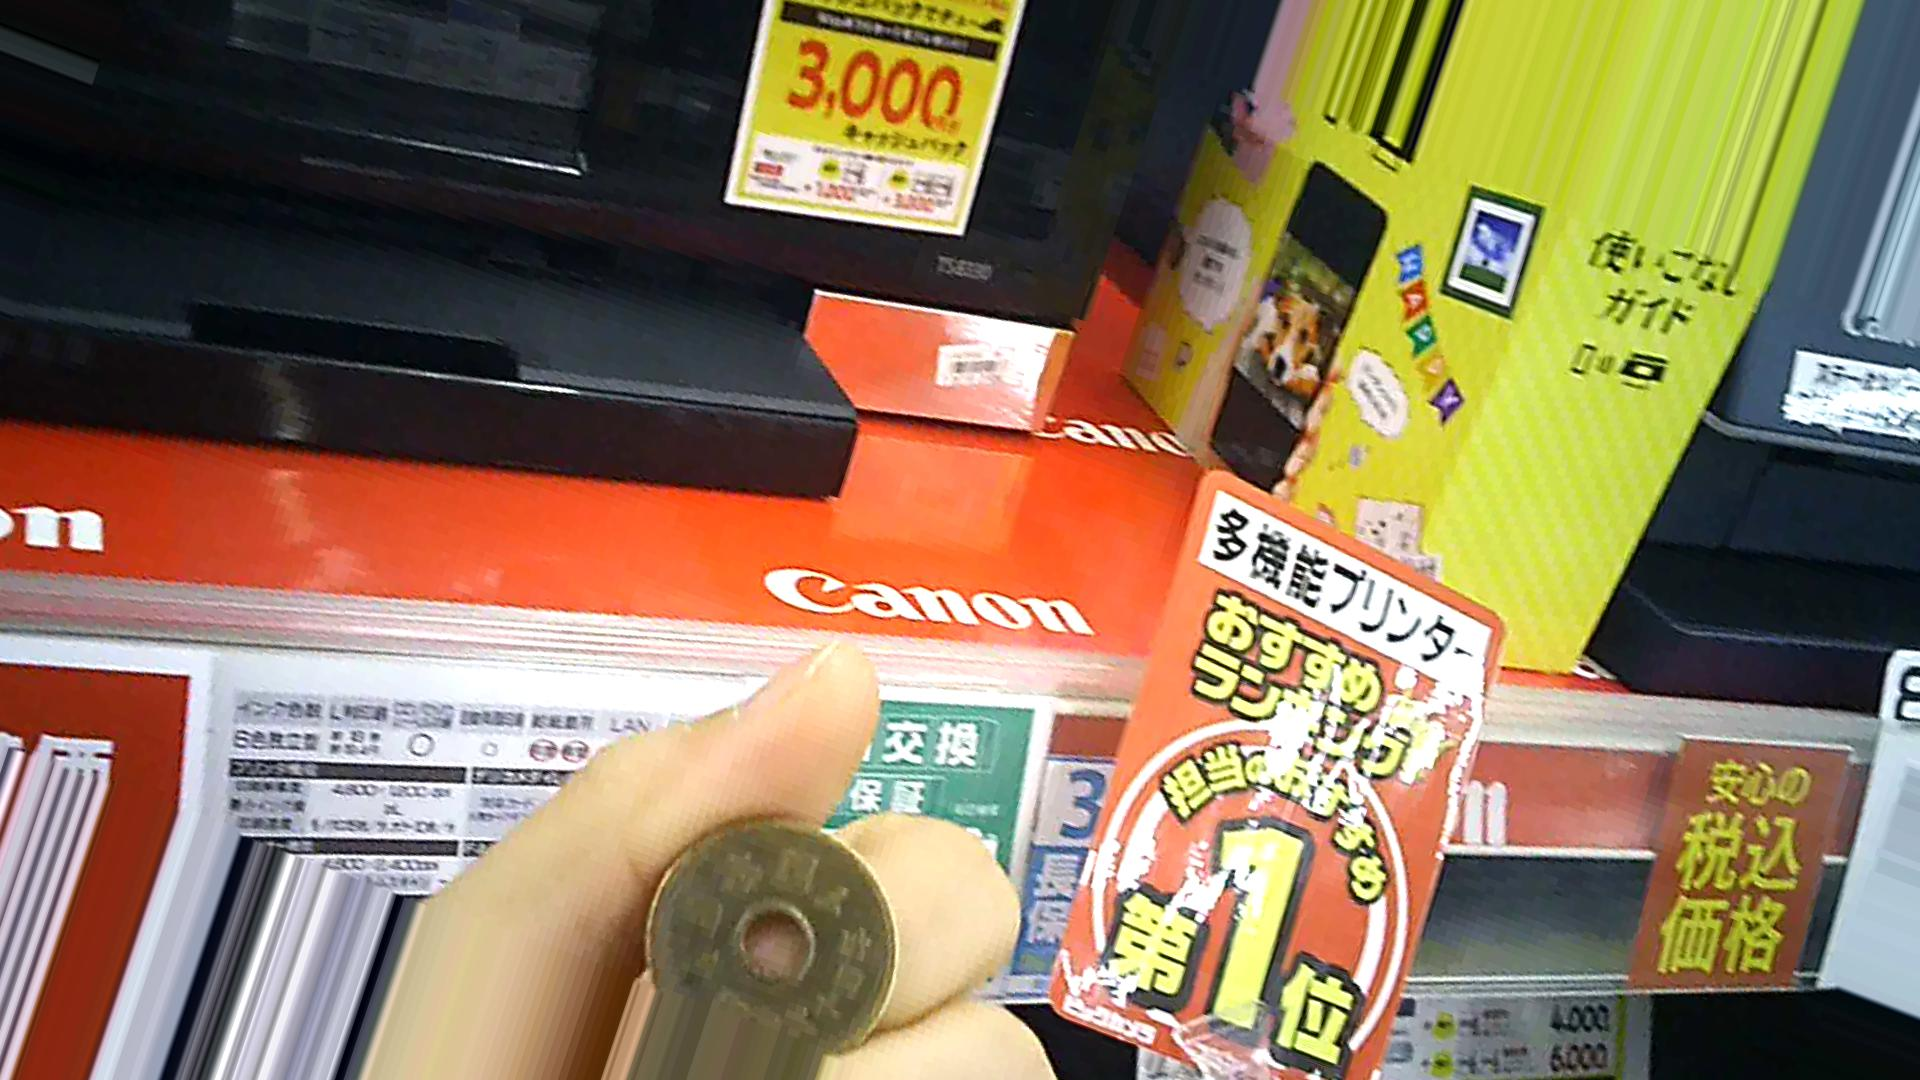5 Yen: (622, 800, 906, 1051)
